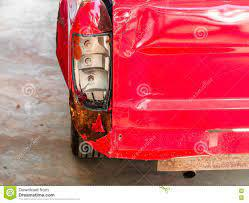Taillight-Damage: (54, 0, 131, 115)
